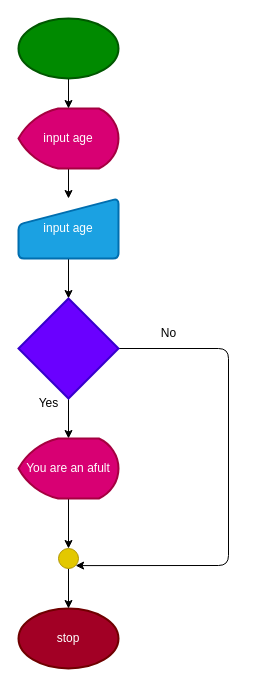
Image size: 254x686. Some labels were removed from this diagram. The centre of each missing label's shape, as x and y in pixels:
age >= 18: [68,348]
start: [68,48]
